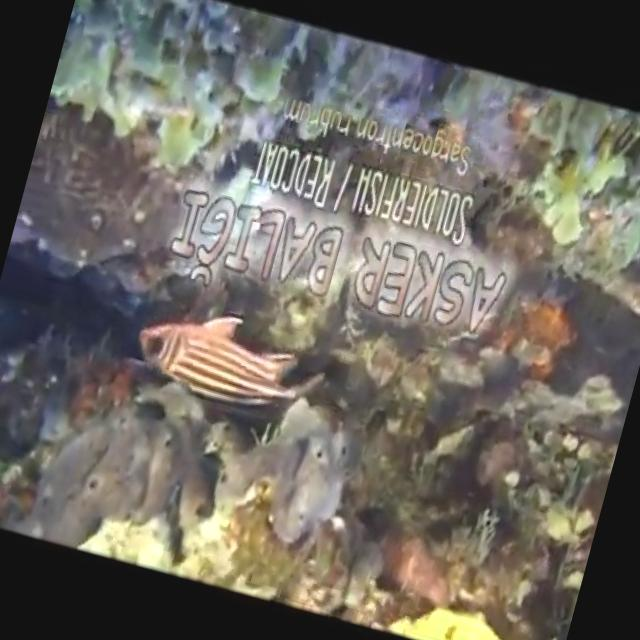Asker Baligi: (120, 286, 330, 424)
